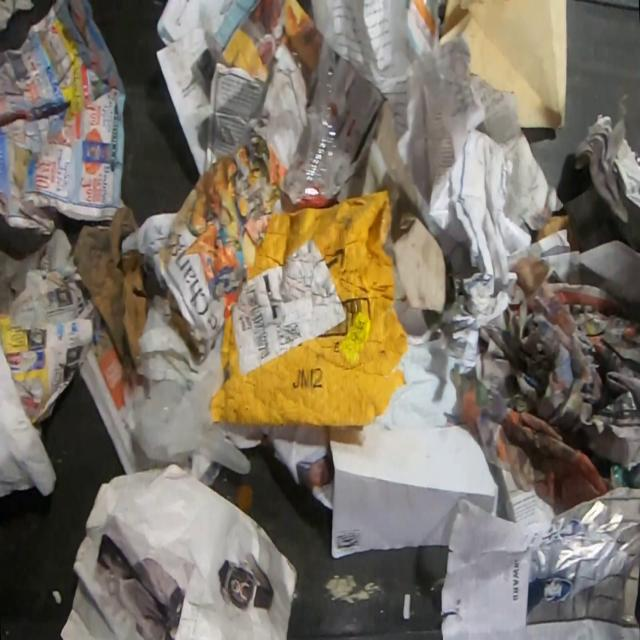cardboard: (209, 189, 408, 427), (70, 204, 150, 368)
rigid_plastic: (302, 29, 340, 201)
soft_plastic: (128, 333, 252, 474)
